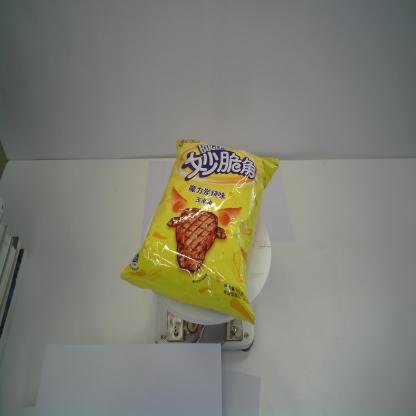Puffed Food: (118, 134, 282, 324)
